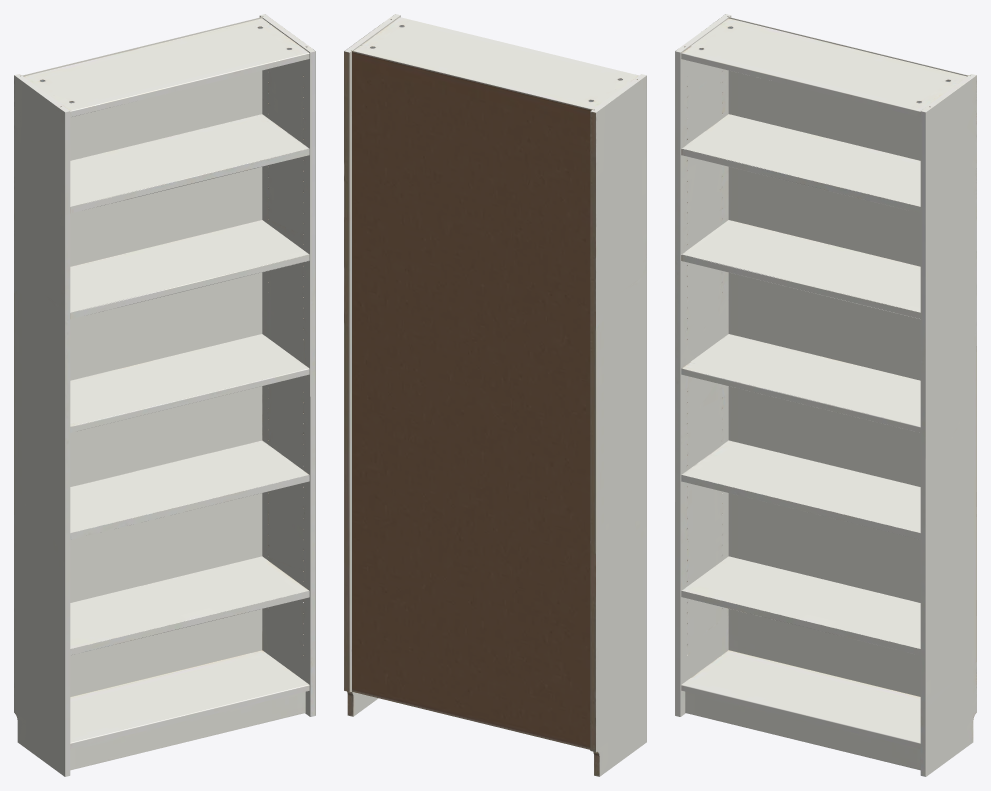
File: 00263850-mini.glb
The picture shows the model from 3 angles, left to right: view 1: azimuth 30°, elevation 25°; view 2: azimuth 150°, elevation 25°; view 3: azimuth 330°, elevation 25°; orthographic projection.
Parts seen in each view (by area): view 1: model; view 2: model; view 3: model.
Boxes of the visible parts, x1=… form: model: x1=14, y1=14, x2=315, y2=776; model: x1=344, y1=14, x2=646, y2=776; model: x1=675, y1=14, x2=976, y2=776.
Bounding box in the file's own units: 0.7984 × 2.02 × 0.2803.
Materials: 1 (1 with a texture image).
